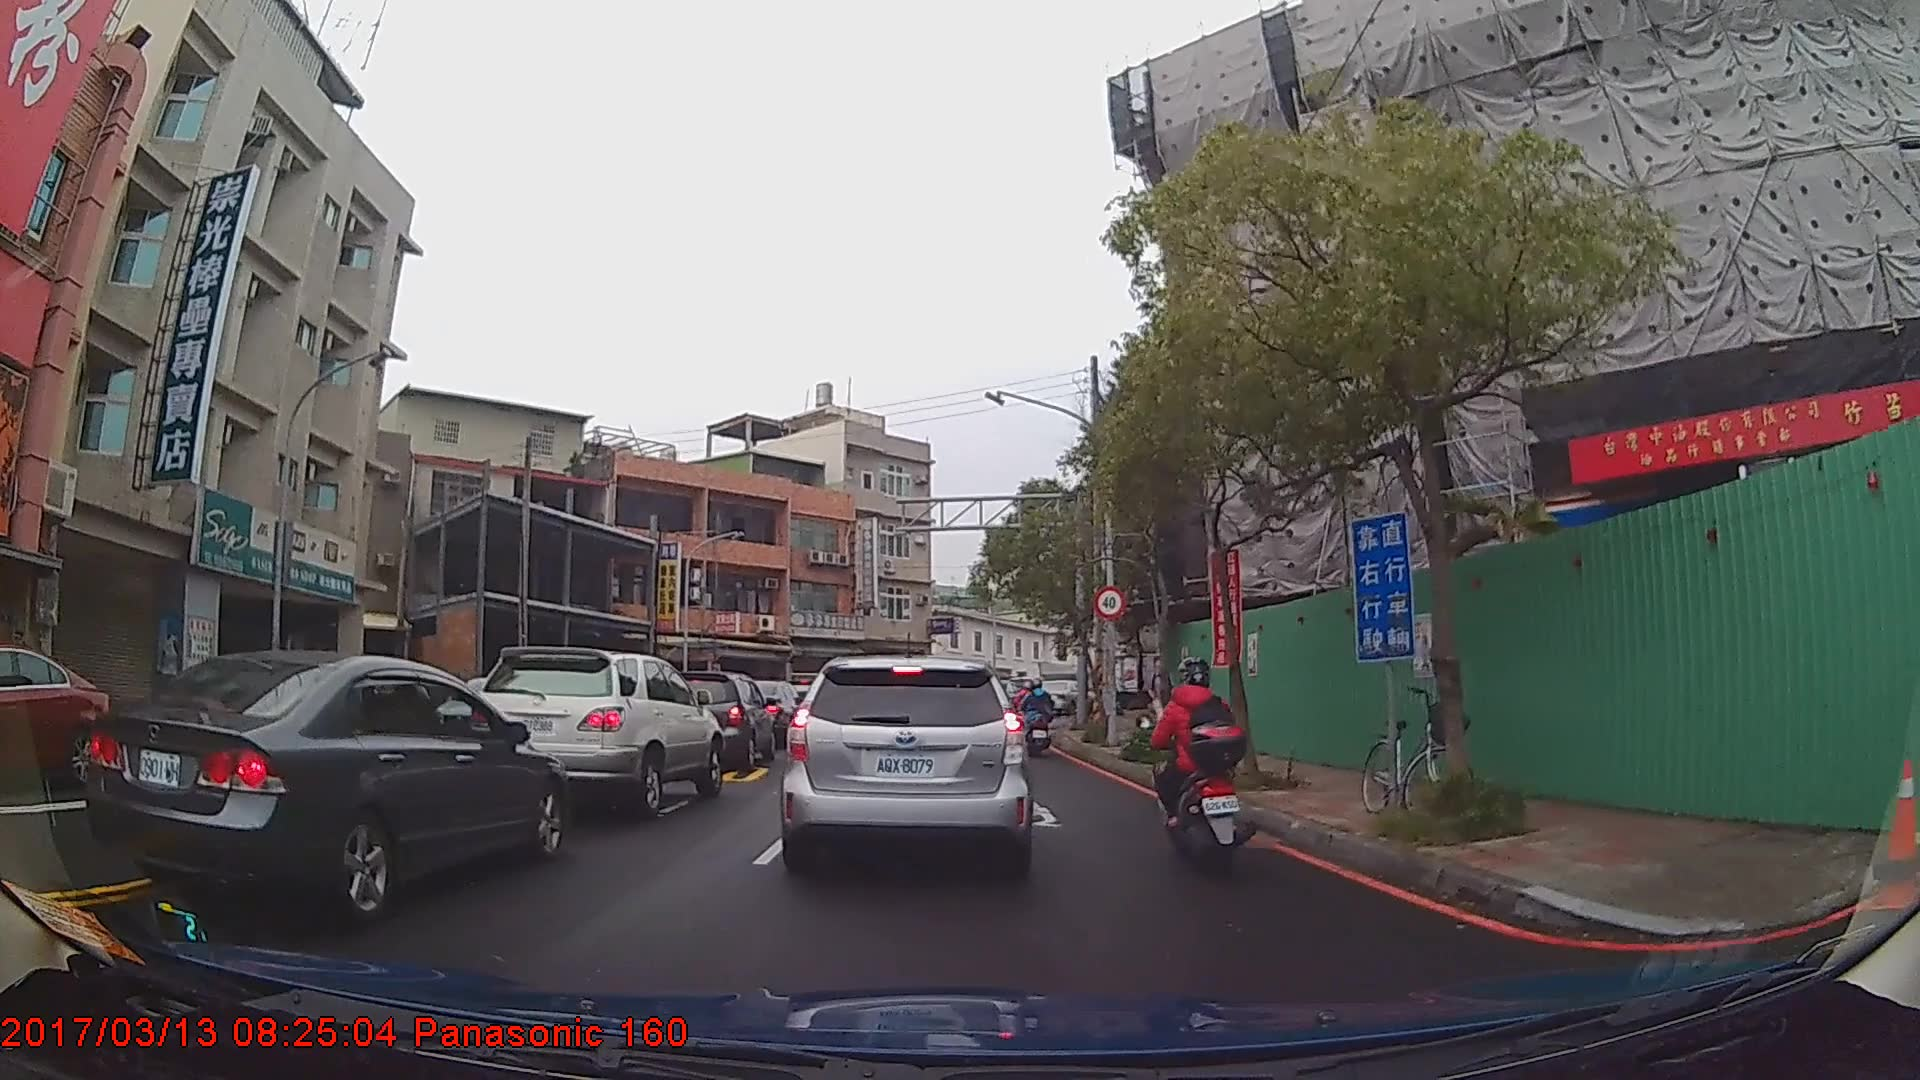rider: (1153, 650, 1256, 866), (1022, 681, 1059, 763), (1013, 675, 1038, 737)
vehicle: (77, 646, 564, 920), (775, 653, 1036, 872), (463, 642, 721, 818), (0, 641, 109, 790), (660, 668, 775, 771)
